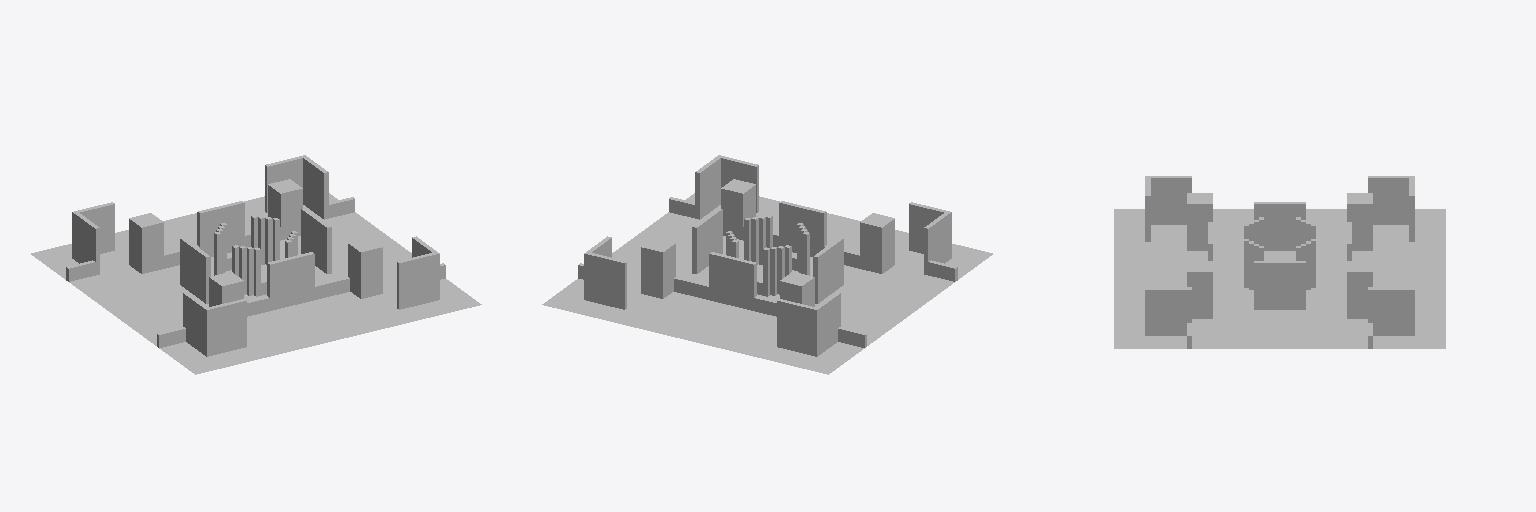
Rendered from bigArenaRed.obj.
The picture shows the model from 3 angles: view 1: azimuth 30°, elevation 25°; view 2: azimuth 150°, elevation 25°; view 3: azimuth 270°, elevation 25°; orthographic projection.
Visible parts, largest first — view 1: Plane.000; view 2: Plane.000; view 3: Plane.000.
Part boxes in pixels (x1,y1,x2,y2): Plane.000: (31, 155, 481, 374); Plane.000: (542, 155, 992, 374); Plane.000: (1114, 176, 1445, 348).
Bounding box in the file's own units: 617 × 95.84 × 617.